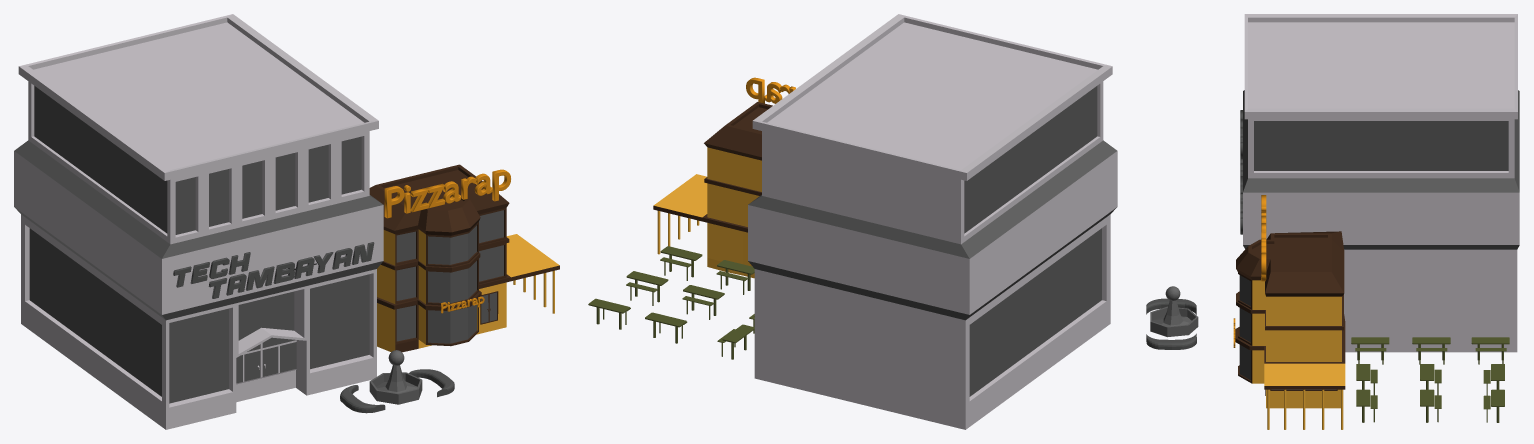
File: pizzabuilding.fbx
The picture shows the model from 3 angles, left to right: view 1: azimuth 30°, elevation 25°; view 2: azimuth 150°, elevation 25°; view 3: azimuth 270°, elevation 25°; orthographic projection. The views are drawn at different scales.
Visible parts, largest first — view 1: techbuilding, pizza, fountain, Text.003, Text, Text.002; view 2: techbuilding, pizza, Text, table; view 3: techbuilding, pizza, fountain, Text, table.
Part boxes in pixels (x1,y1,x2,y2): techbuilding: [14, 14, 383, 429]; pizza: [369, 164, 559, 352]; fountain: [340, 350, 454, 413]; Text.003: [208, 242, 374, 298]; Text: [384, 169, 510, 218]; Text.002: [173, 252, 250, 287]; techbuilding: [748, 14, 1117, 429]; pizza: [626, 102, 772, 359]; Text: [746, 77, 795, 103]; table: [588, 298, 630, 329]; techbuilding: [1243, 14, 1519, 352]; pizza: [1235, 231, 1509, 429]; fountain: [1146, 286, 1198, 349]; Text: [1261, 195, 1266, 281]; table: [1483, 389, 1504, 422].
Size of the model in its own units: 2330 by 1400 by 1965.
